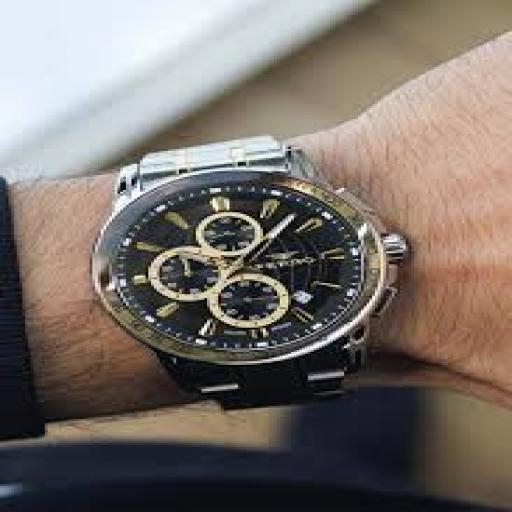KolSaati: (71, 125, 441, 427)
